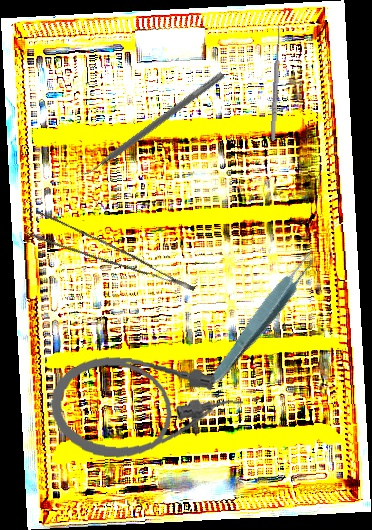Cannula: (47, 351, 246, 469)
Hook Surgical: (265, 24, 283, 141)
Spatula Surgical: (77, 65, 226, 182)
Tissue Forceps: (24, 202, 196, 318), (204, 244, 325, 390)
